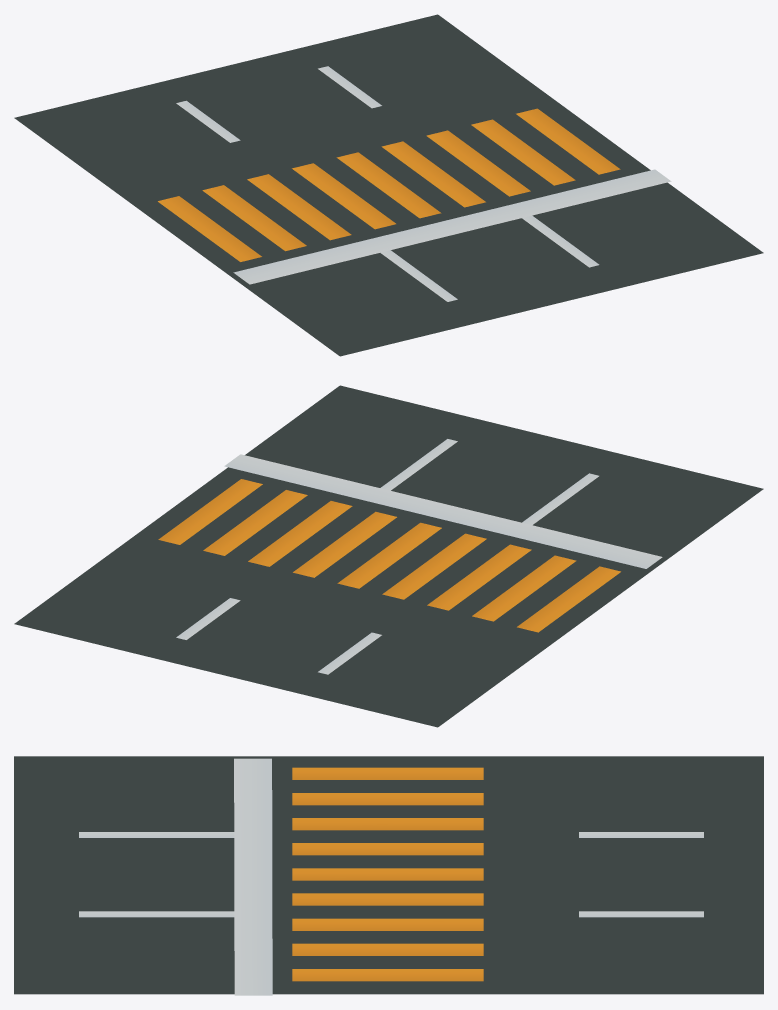
The model's file is Road_2_304.fbx.
The picture shows the model from 3 angles, top to bottom: view 1: azimuth 30°, elevation 25°; view 2: azimuth 150°, elevation 25°; view 3: azimuth 270°, elevation 25°; orthographic projection. The views are drawn at different scales.
Visible parts, largest first — view 1: Road_2_304; view 2: Road_2_304; view 3: Road_2_304.
Boxes of the visible parts, x1,y1,x2,y2 form: Road_2_304: (14,14,763,356); Road_2_304: (14,385,763,727); Road_2_304: (14,756,763,995).
Size of the model in its own units: 1363 by 1.66 by 1800.
